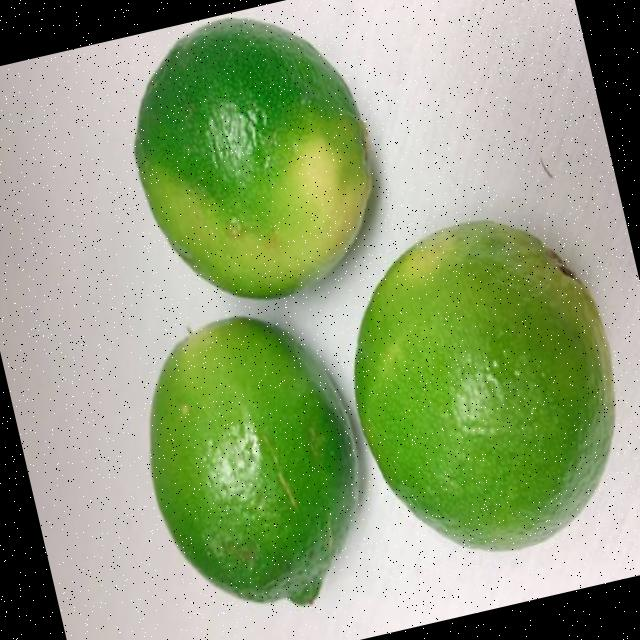Unripe: (314, 193, 640, 580), (106, 0, 403, 327), (116, 296, 390, 636)
